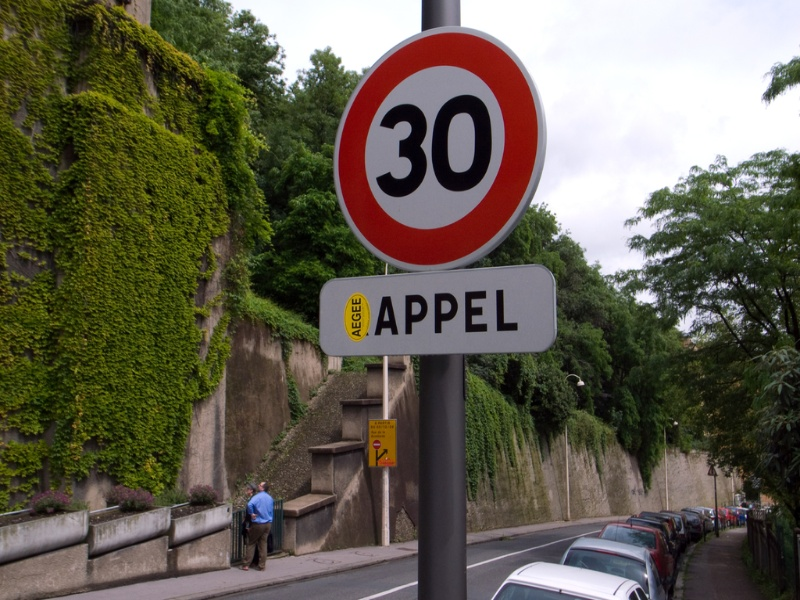speed_limit_30: (339, 43, 577, 248)
